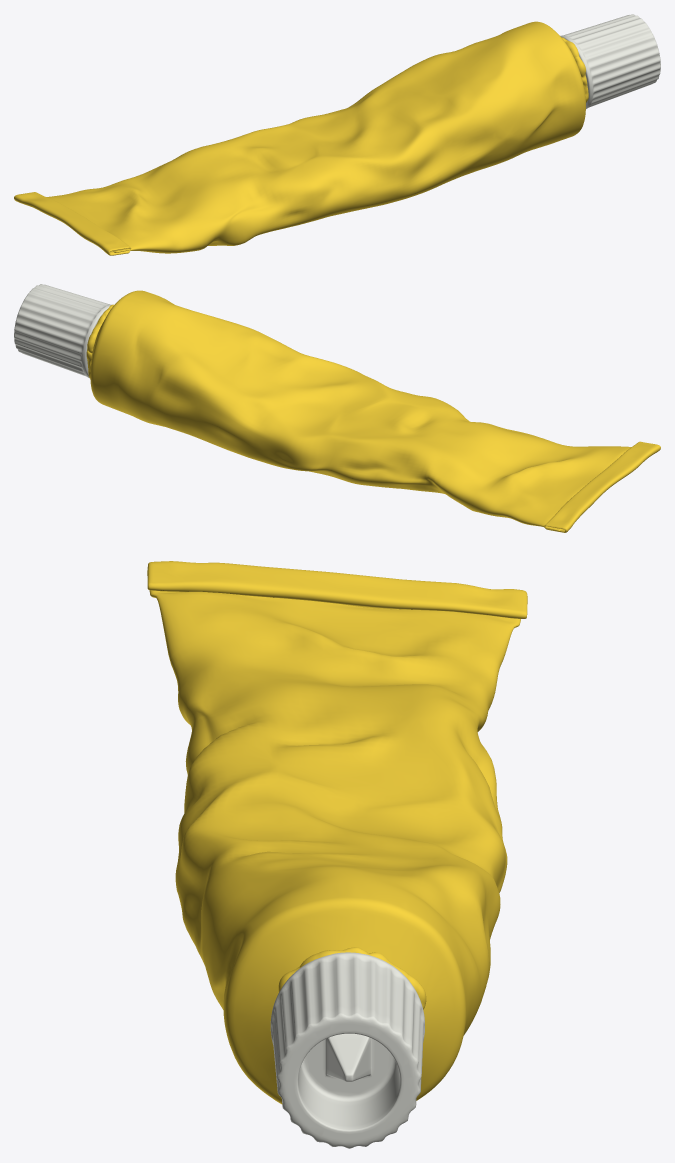
Rendered from paint_container_tube_d01.glb.
3 renders of one model, top to bottom at view 1: azimuth 30°, elevation 25°; view 2: azimuth 150°, elevation 25°; view 3: azimuth 270°, elevation 25°, orthographic. The views are drawn at different scales.
Bounding box in the file's own units: 0.1213 × 0.0225 × 0.0343.
